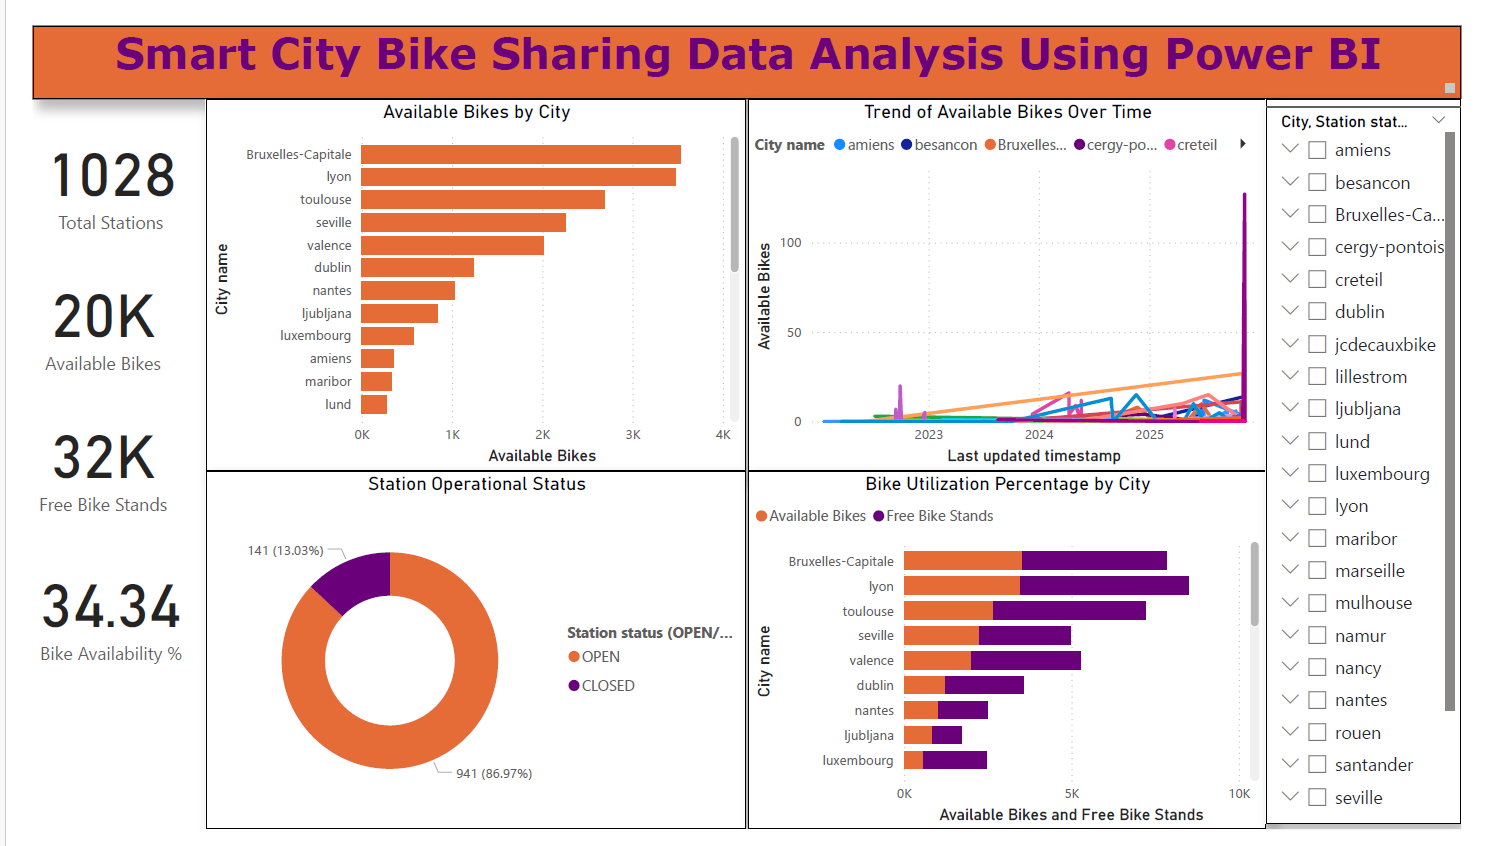

What the dashboard file says about the page in this screenshot:
{"tool":"powerbi","page":{"name":"Dashboard","canvas":[1280,720],"ordinal":5},"visuals":[{"type":"card","fields":{"Values":["Fact_Station_Status.Total Stations"]},"box":[0,65.9,140,142.7],"z":0},{"type":"card","fields":{"Values":["Fact_Station_Status.Available Bikes"]},"box":[0,208.6,126.2,109.8],"z":1000},{"type":"card","fields":{"Values":["Fact_Station_Status.Free Bike Stands"]},"box":[0,318.4,126.2,144.1],"z":2000},{"type":"card","fields":{"Values":["Fact_Station_Status.Bike Availability %"]},"box":[0,462.4,140,123.5],"z":3000},{"type":"textbox","title":"Smart City Bike Sharing Data Analysis Using Power BI","box":[0,0,1280.3,65.9],"z":4000},{"type":"clusteredBarChart","title":"Available Bikes by City","fields":{"Category":["Fact_Station_Status.City name"],"Y":["Fact_Station_Status.Available Bikes"]},"box":[155.1,65.9,484.4,333.4],"z":5000},{"type":"donutChart","title":"Station Operational Status","fields":{"Category":["Fact_Station_Status.Station status (OPEN/CLOSED)"],"Y":["Fact_Station_Status.Total Stations"]},"box":[155.1,399.3,484.4,321.1],"z":6000},{"type":"lineChart","title":"Trend of Available Bikes Over Time","fields":{"Category":["Fact_Station_Status.Last updated timestamp"],"Y":["Fact_Station_Status.Available Bikes"],"Series":["Fact_Station_Status.City name"]},"box":[640.8,65.9,463.8,333.4],"z":7000},{"type":"barChart","title":"Bike Utilization Percentage by City","fields":{"Category":["Fact_Station_Status.City name"],"Y":["Fact_Station_Status.Available Bikes","Fact_Station_Status.Free Bike Stands"]},"box":[640.8,399.3,463.8,321.1],"z":8000},{"type":"slicer","fields":{"Values":["Fact_Station_Status.City name","Fact_Station_Status.Station status (OPEN/CLOSED)","Fact_Station_Status.Last updated timestamp"]},"box":[1104.6,65.9,175.6,649.1],"z":8001}]}

Visuals, with their boxes in screenshot pixels (x1, y1, x2, y2), scaled from the page's 1280x720 canvas onto the 1487x846 screenshot:
card - Fact_Station_Status.Total Stations: crop(0, 77, 163, 245)
card - Fact_Station_Status.Available Bikes: crop(0, 245, 147, 374)
card - Fact_Station_Status.Free Bike Stands: crop(0, 374, 147, 543)
card - Fact_Station_Status.Bike Availability %: crop(0, 543, 163, 688)
"Smart City Bike Sharing Data Analysis Using Power BI" textbox: crop(0, 0, 1486, 77)
"Available Bikes by City" clusteredBarChart: crop(180, 77, 743, 469)
"Station Operational Status" donutChart: crop(180, 469, 743, 845)
"Trend of Available Bikes Over Time" lineChart: crop(744, 77, 1283, 469)
"Bike Utilization Percentage by City" barChart: crop(744, 469, 1283, 845)
slicer - Fact_Station_Status.City name x Fact_Station_Status.Station status (OPEN/CLOSED): crop(1283, 77, 1486, 840)
